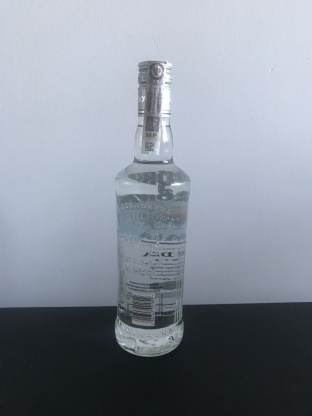nakretka: (135, 57, 174, 119)
